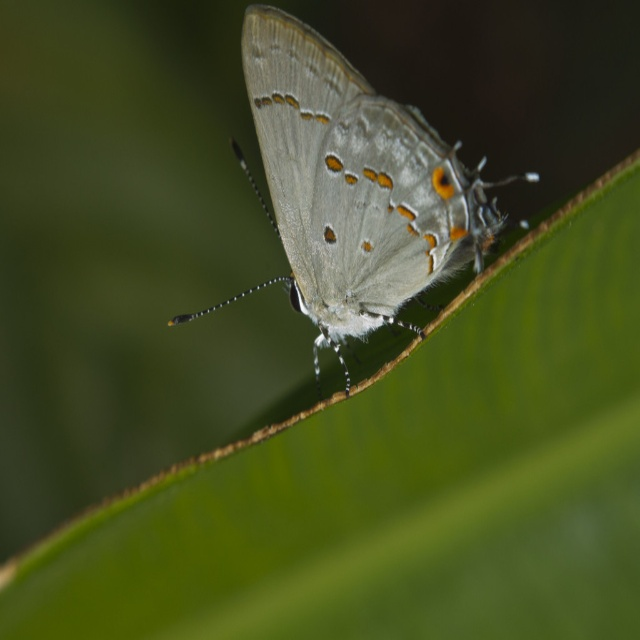Butterfly: (169, 0, 542, 395)
